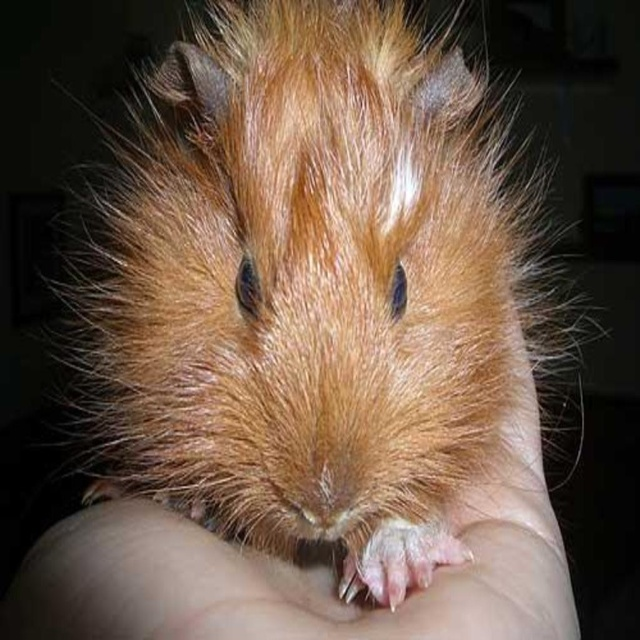Mouse: (37, 0, 616, 615)
